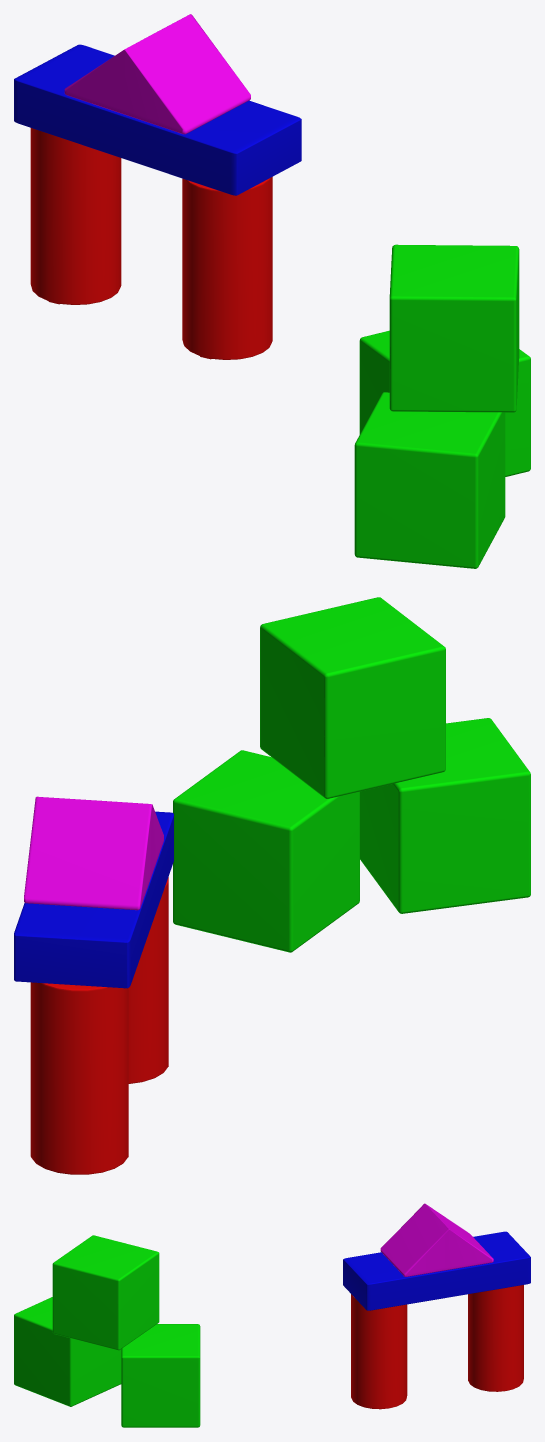
The model's file is ENVFBX.fbx.
The picture shows the model from 3 angles, top to bottom: view 1: azimuth 30°, elevation 25°; view 2: azimuth 150°, elevation 25°; view 3: azimuth 270°, elevation 25°; orthographic projection. The views are drawn at different scales.
Parts seen in each view (by area): view 1: pCube2, pCube3, pCube4, pCylinder1, pCylinder2, pCube5, pCube1; view 2: pCube3, pCube1, pCube2, pCylinder2, pCube5, pCube4, pCylinder1; view 3: pCube3, pCube1, pCube4, pCube2, pCylinder1, pCylinder2, pCube5.
Boxes of the visible parts, x1,y1,x2,y2 form: pCube2: [354, 392, 505, 568]; pCube3: [389, 244, 519, 412]; pCube4: [14, 44, 301, 195]; pCylinder1: [182, 177, 272, 359]; pCylinder2: [30, 128, 121, 304]; pCube5: [64, 14, 250, 134]; pCube1: [359, 330, 530, 476]; pCube3: [260, 597, 445, 798]; pCube1: [173, 750, 359, 952]; pCube2: [360, 718, 530, 913]; pCylinder2: [30, 982, 128, 1174]; pCube5: [24, 796, 163, 910]; pCube4: [14, 811, 173, 988]; pCylinder1: [128, 877, 168, 1083]; pCube3: [52, 1235, 159, 1350]; pCube1: [121, 1324, 200, 1427]; pCube4: [343, 1231, 530, 1310]; pCube2: [14, 1297, 121, 1406]; pCylinder1: [351, 1294, 407, 1409]; pCylinder2: [468, 1285, 523, 1391]; pCube5: [380, 1203, 493, 1276].
Bounding box in the file's own units: 2.01 × 2.46 × 6.56.
